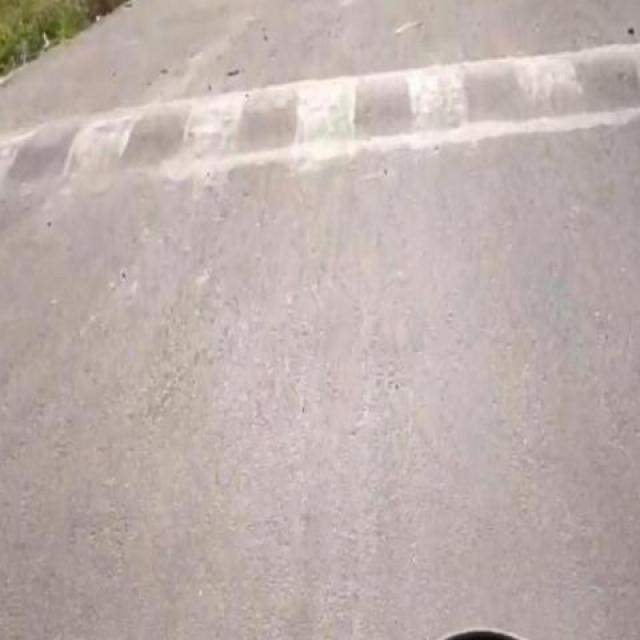Speed Bump: (0, 41, 639, 223)
